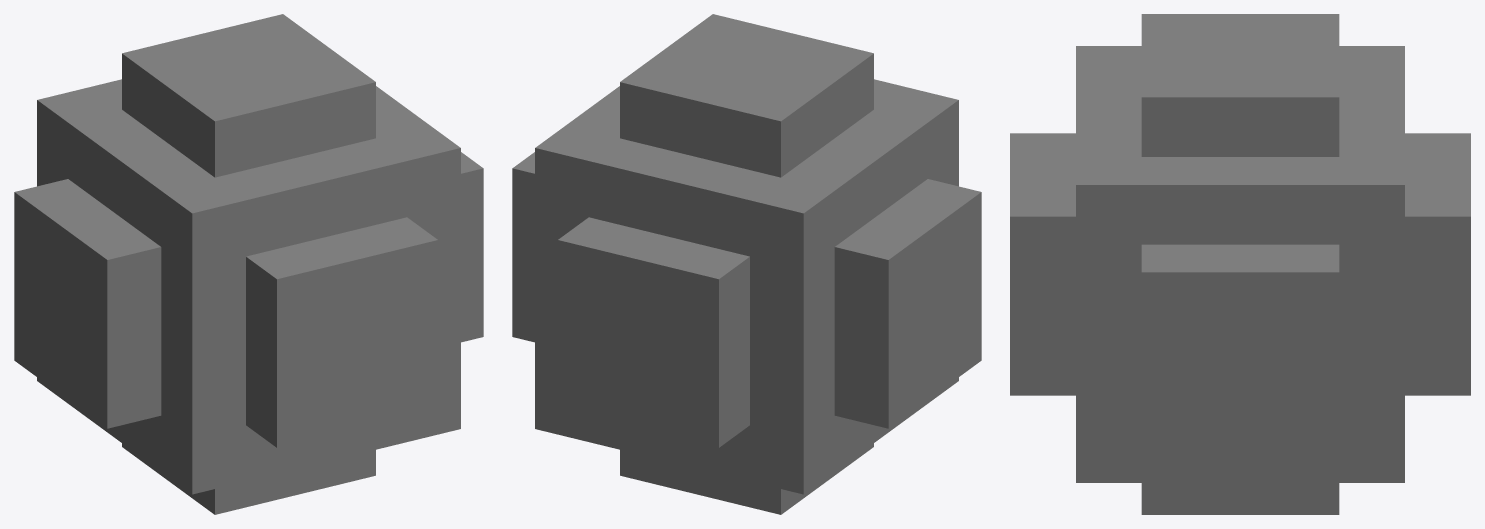
The model's file is stone-0.obj.
3 renders of one model, left to right at view 1: azimuth 30°, elevation 25°; view 2: azimuth 150°, elevation 25°; view 3: azimuth 270°, elevation 25°, orthographic. The views are drawn at different scales.
Bounding box in the file's own units: 0.7 × 0.7 × 0.7.
Materials: 1 (1 with a texture image).
